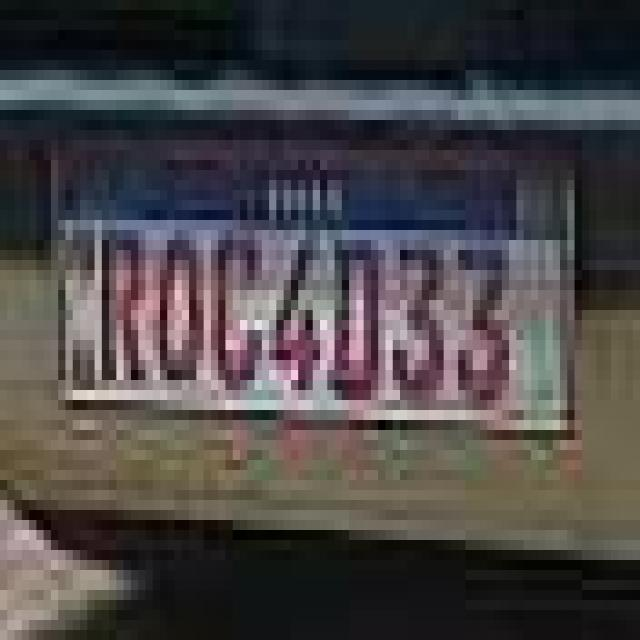3: (454, 232, 515, 411), (392, 234, 450, 400)
4: (272, 232, 319, 402)
C: (212, 229, 266, 388)
D: (331, 235, 389, 399)
O: (156, 230, 208, 387)
R: (100, 225, 151, 383)
